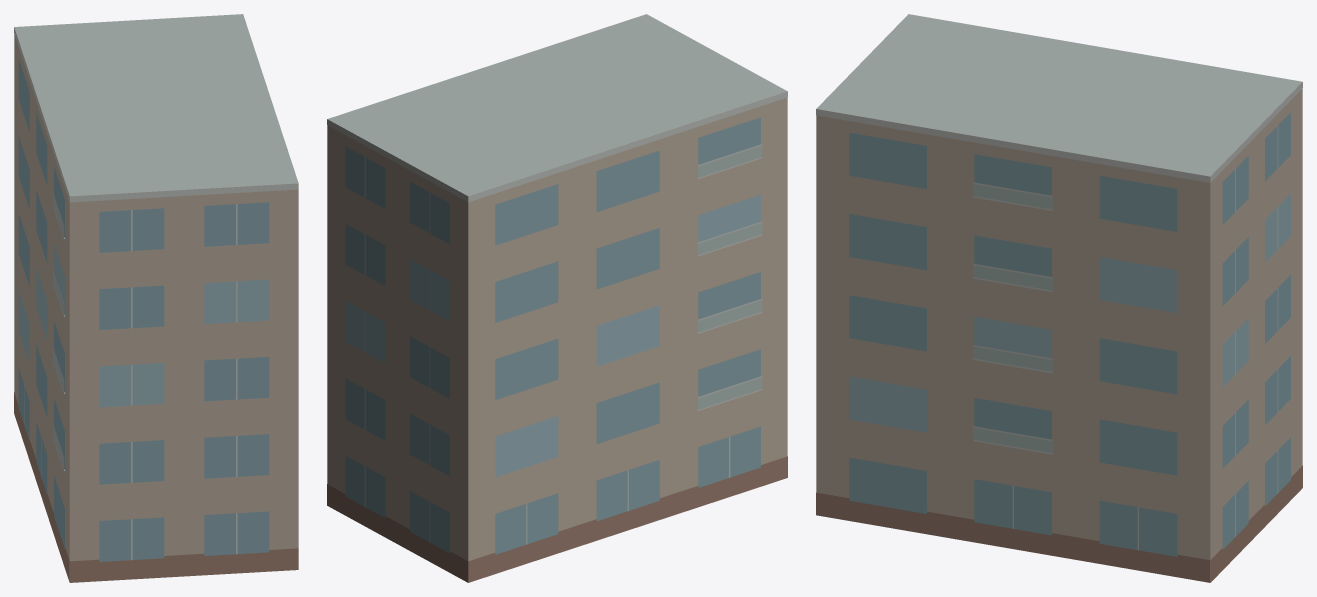
Rendered from survey-upis-32581070.glb.
The picture shows the model from 3 angles, left to right: view 1: azimuth 30°, elevation 25°; view 2: azimuth 150°, elevation 25°; view 3: azimuth 270°, elevation 25°; orthographic projection. The views are drawn at different scales.
Visible parts, largest first — view 1: survey-upis-32581070.tmp; view 2: survey-upis-32581070.tmp; view 3: survey-upis-32581070.tmp.
Boxes of the visible parts, x1,y1,x2,y2 form: survey-upis-32581070.tmp: (14, 14, 298, 582); survey-upis-32581070.tmp: (327, 14, 787, 582); survey-upis-32581070.tmp: (816, 14, 1302, 582).
Bounding box in the file's own units: 13.4 × 15.6 × 16.94.
